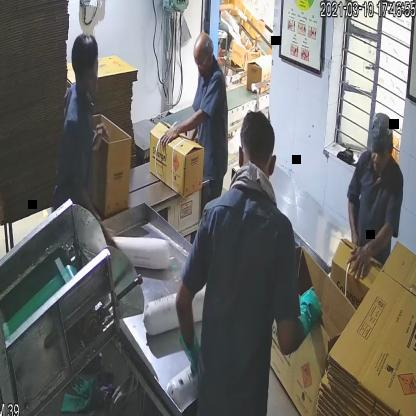glove: (289, 278, 328, 346)
no_glove: (345, 209, 400, 294), (151, 113, 216, 160)
